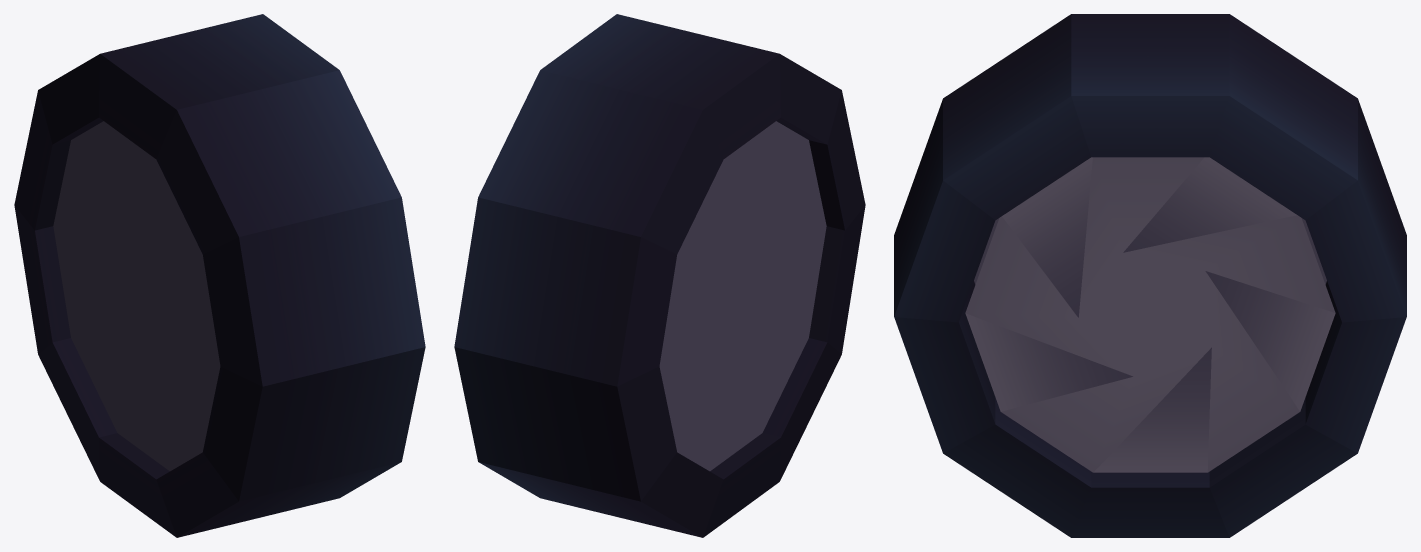
The model's file is Model_car_wheel_medium.gltf.
3 renders of one model, left to right at view 1: azimuth 30°, elevation 25°; view 2: azimuth 150°, elevation 25°; view 3: azimuth 270°, elevation 25°, orthographic. The views are drawn at different scales.
Visible parts, largest first — view 1: Model_car_wheel_medium; view 2: Model_car_wheel_medium; view 3: Model_car_wheel_medium.
Boxes of the visible parts, x1=… form: Model_car_wheel_medium: x1=14, y1=14, x2=425, y2=537; Model_car_wheel_medium: x1=454, y1=14, x2=865, y2=537; Model_car_wheel_medium: x1=894, y1=14, x2=1406, y2=537.
Size of the model in its own units: 0.34 by 0.7532 by 0.792.
Materials: 1 (1 with a texture image).
